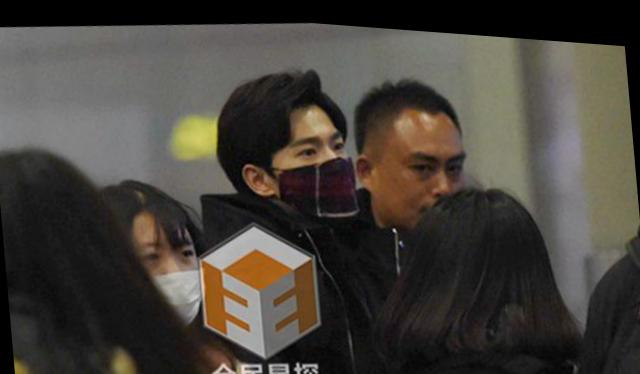NONE: (381, 115, 475, 237)
OK: (270, 105, 365, 228)
WRONG: (121, 216, 209, 332)
